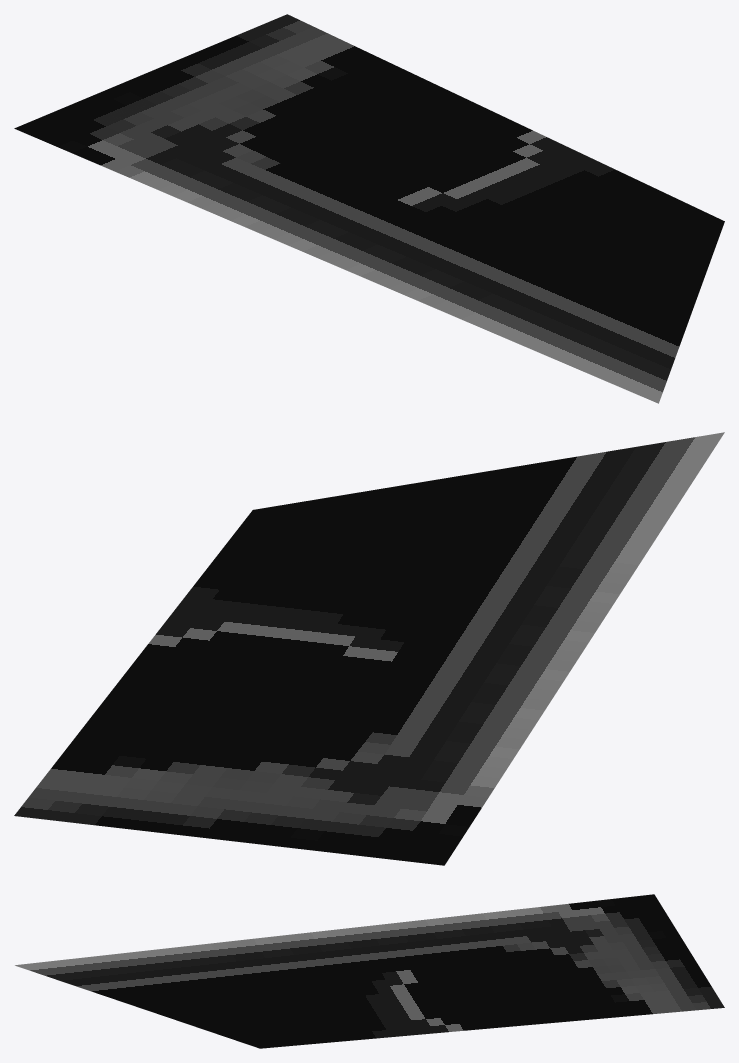
File: k47_secondary.glb
The picture shows the model from 3 angles, top to bottom: view 1: azimuth 30°, elevation 25°; view 2: azimuth 150°, elevation 25°; view 3: azimuth 270°, elevation 25°; orthographic projection. The views are drawn at different scales.
Visible parts, largest first — view 1: Object; view 2: Object; view 3: Object.
Boxes of the visible parts, x1,y1,x2,y2 form: Object: (14, 14, 724, 403); Object: (14, 432, 724, 865); Object: (15, 894, 724, 1048).
Size of the model in its own units: 0.0506 by 5.69e-07 by 0.0984.
1 material, 1 textured.
